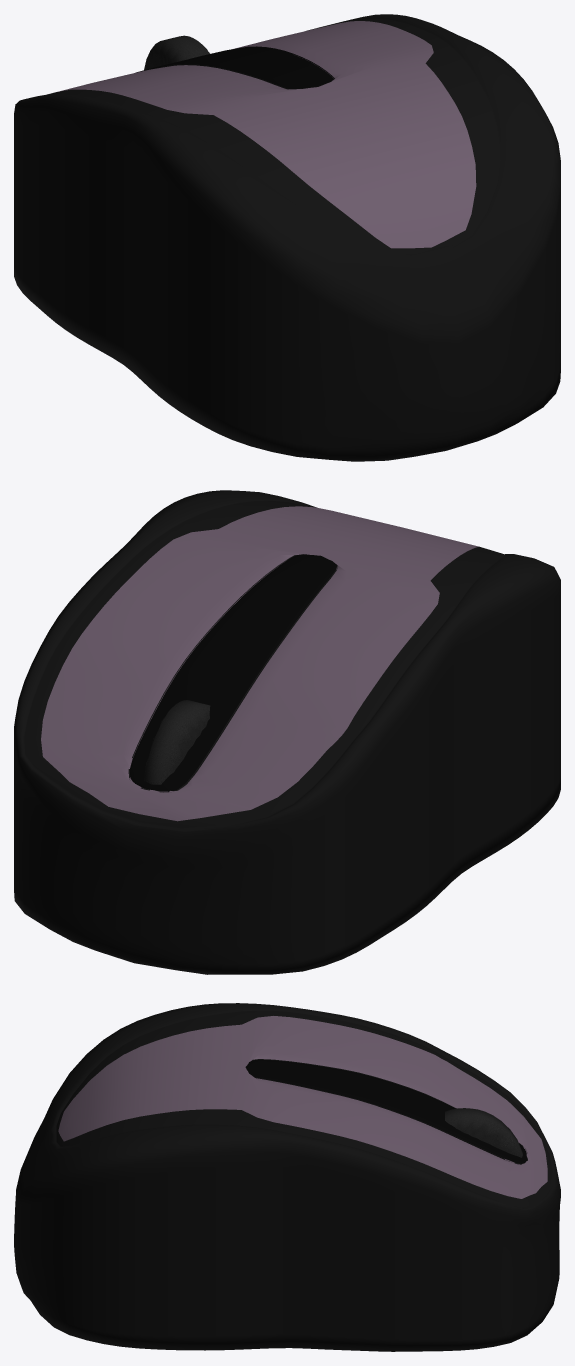
The model's file is ComputerMouse.fbx.
3 views of the same model, one above another, from view 1: azimuth 30°, elevation 25°; view 2: azimuth 150°, elevation 25°; view 3: azimuth 270°, elevation 25° (orthographic). The views are drawn at different scales.
Visible parts, largest first — view 1: pCylinder2; view 2: pCylinder2; view 3: pCylinder2.
Part boxes in pixels (x1,y1,x2,y2): pCylinder2: (14,14,560,461); pCylinder2: (14,490,560,974); pCylinder2: (14,1003,560,1351).
Bounding box in the file's own units: 8.12 × 6.07 × 13.3.
Materials: 3 (1 with a texture image).
